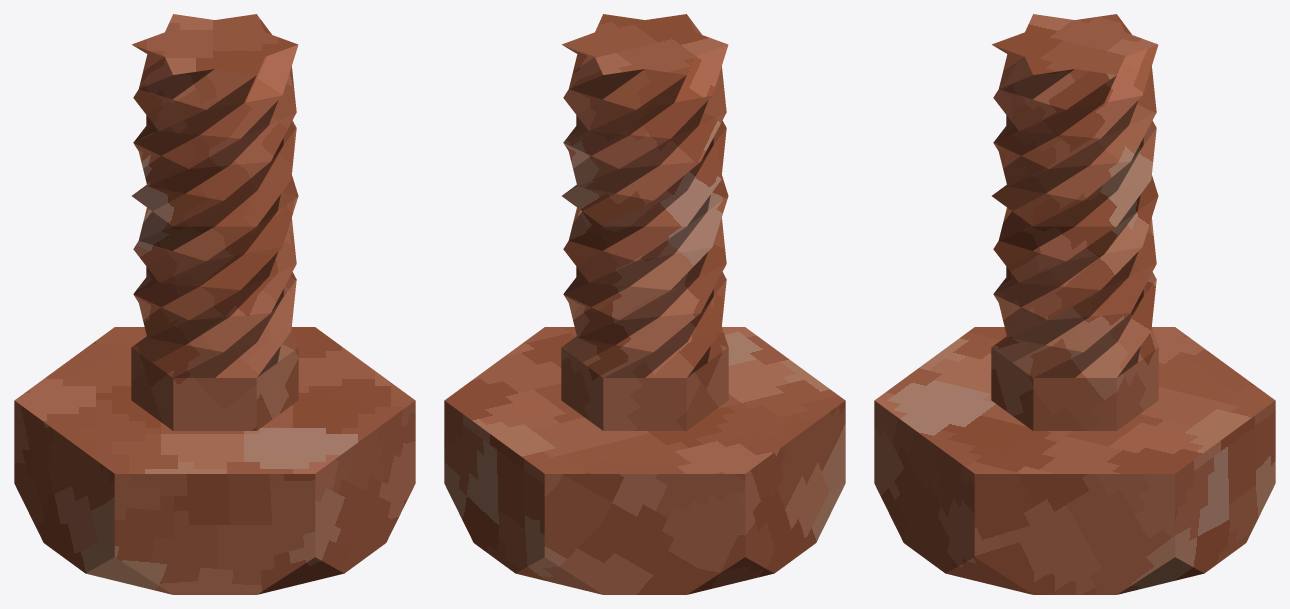
Rendered from bolt.fbx.
3 views of the same model, side by side, from view 1: azimuth 30°, elevation 25°; view 2: azimuth 150°, elevation 25°; view 3: azimuth 270°, elevation 25° (orthographic).
Parts seen in each view (by area): view 1: болт; view 2: болт; view 3: болт.
Boxes of the visible parts, x1,y1,x2,y2 form: болт: (14, 14, 415, 594); болт: (444, 14, 845, 594); болт: (874, 14, 1275, 594).
Size of the model in its own units: 4.16 by 6.3 by 4.8.
